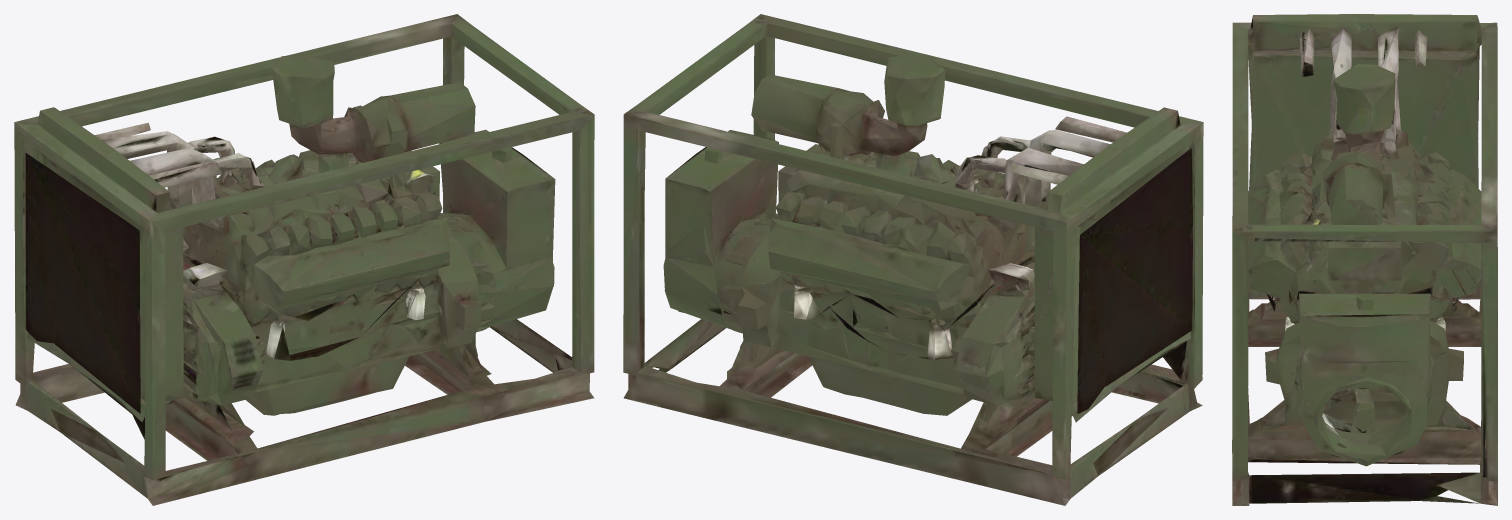
The model's file is generator.glb.
3 renders of one model, left to right at view 1: azimuth 30°, elevation 25°; view 2: azimuth 150°, elevation 25°; view 3: azimuth 270°, elevation 25°, orthographic. The views are drawn at different scales.
Visible parts, largest first — view 1: Mesh_0; view 2: Mesh_0; view 3: Mesh_0.
Part boxes in pixels (x1,y1,x2,y2): Mesh_0: (14,14,594,505); Mesh_0: (623,14,1203,505); Mesh_0: (1232,14,1497,505).
Size of the model in its own units: 1.9 by 1.36 by 1.01.
Materials: 1 (1 with a texture image).
